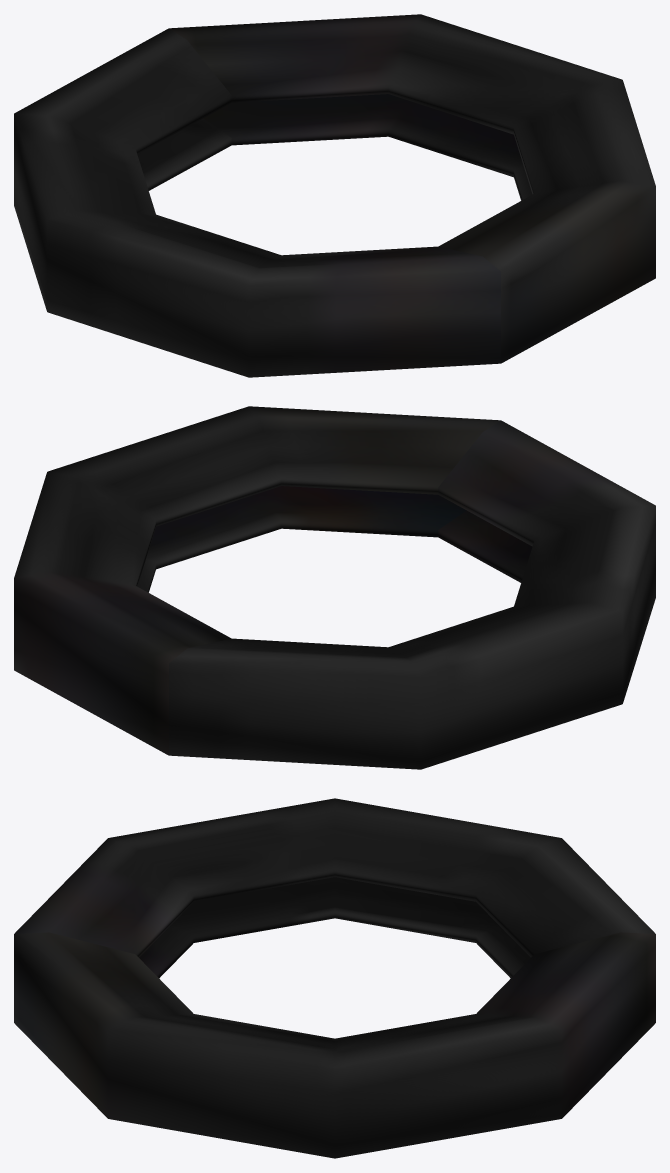
File: Rubber1.fbx
The picture shows the model from 3 angles, top to bottom: view 1: azimuth 30°, elevation 25°; view 2: azimuth 150°, elevation 25°; view 3: azimuth 270°, elevation 25°; orthographic projection. The views are drawn at different scales.
Parts seen in each view (by area): view 1: Rubber1; view 2: Rubber1; view 3: Rubber1.
Part boxes in pixels (box(x1,y1,x2,y2)): Rubber1: box(14, 14, 655, 377); Rubber1: box(14, 406, 655, 769); Rubber1: box(14, 798, 655, 1158).
Bounding box in the file's own units: 0.9777 × 0.1549 × 0.9777.
Materials: 1 (1 with a texture image).
